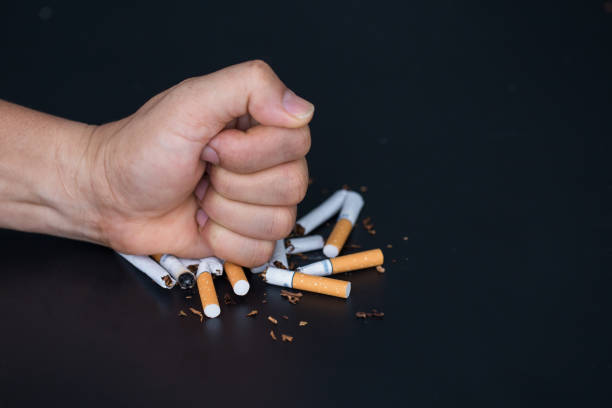cigarette: (265, 265, 352, 299), (322, 191, 364, 259), (295, 186, 349, 235), (297, 247, 385, 277), (117, 252, 176, 288), (195, 256, 221, 319), (150, 254, 196, 289), (221, 259, 249, 296), (286, 233, 324, 254), (272, 237, 289, 271), (178, 256, 201, 274)
